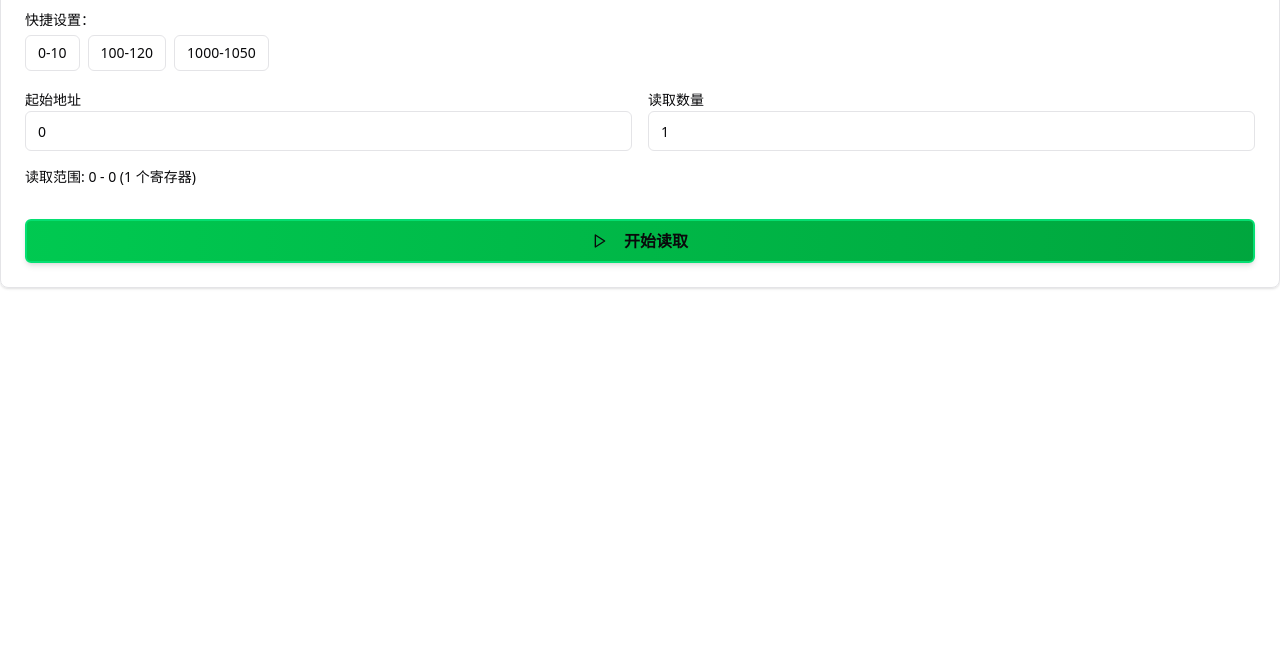
Test: SingleRead › 应该正确显示数据统计
This screenshot has width=1280, height=654.
Click the button "开始读取". click: (640, 241)
box: [25,219,1255,263]
(page scrolled)
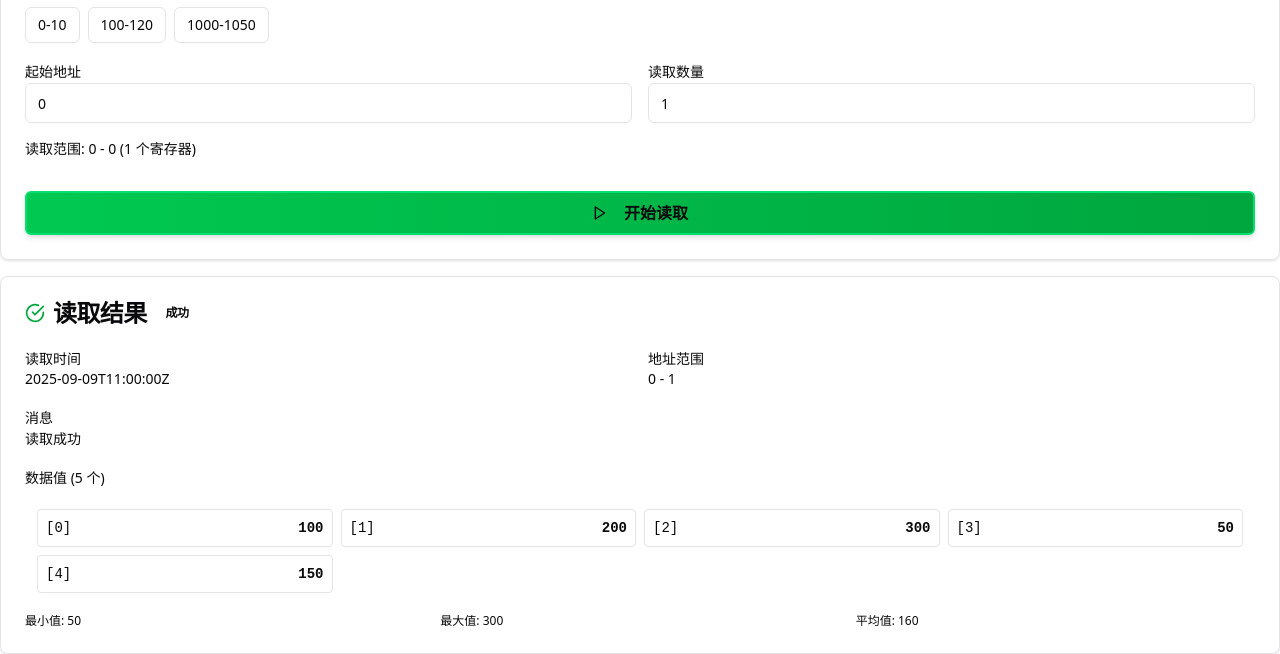
Expected: the text "读取结果" is shown, [53,296,147,329]
Expected: the text "最小值: 50" is shown, [25,612,81,629]
Expected: the text "最大值: 300" is shown, [440,612,503,629]
